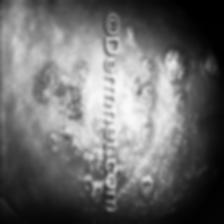Toxin: (40, 66, 87, 140), (158, 41, 186, 81)
